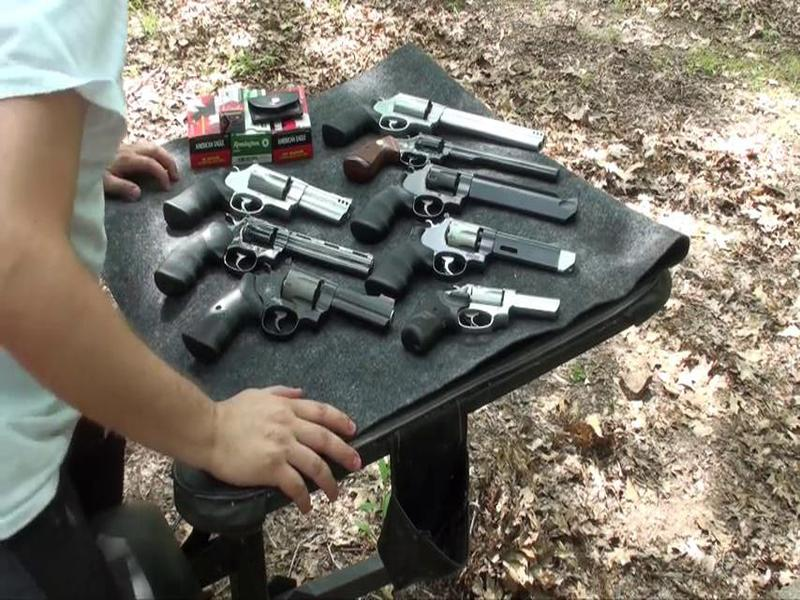Revolver: (183, 263, 398, 363), (319, 85, 548, 153), (401, 272, 568, 360), (167, 159, 357, 234)
